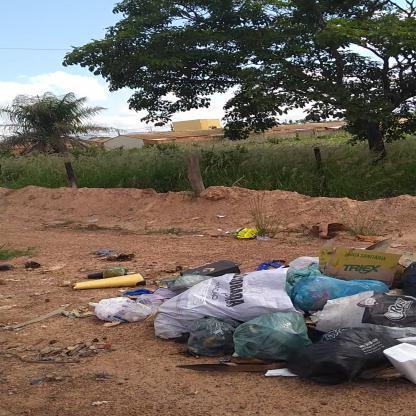lixo: (72, 252, 416, 387)
